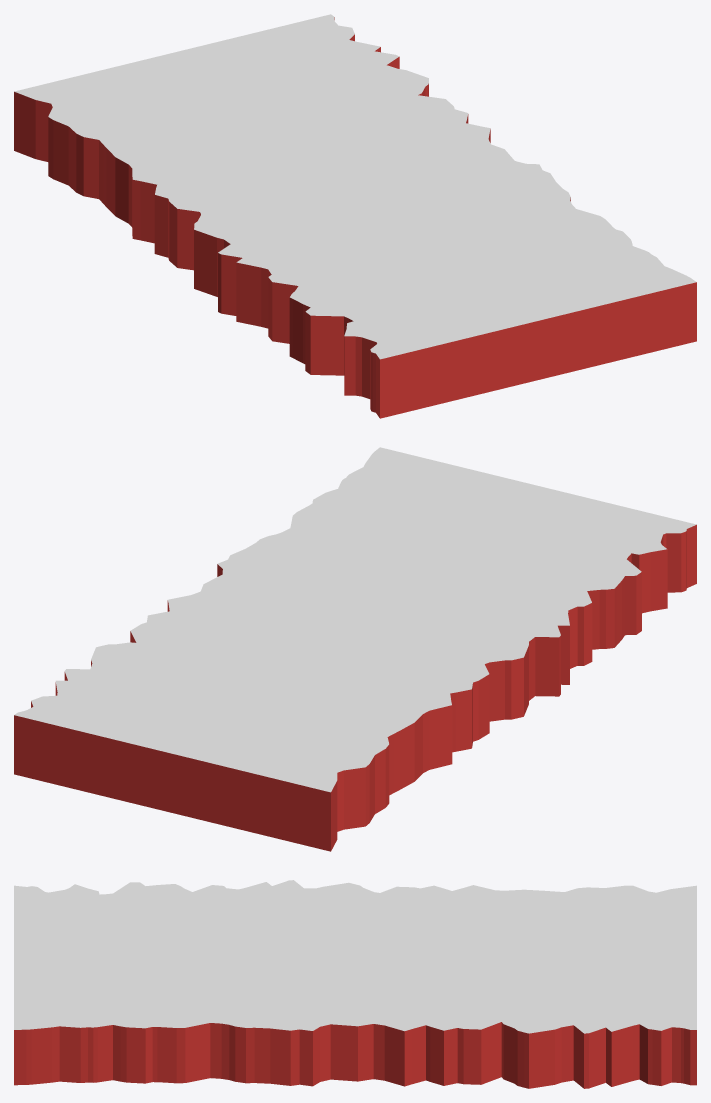
File: newice 6.fbx
3 views of the same model, one above another, from view 1: azimuth 30°, elevation 25°; view 2: azimuth 150°, elevation 25°; view 3: azimuth 270°, elevation 25° (orthographic). The views are drawn at different scales.
Visible parts, largest first — view 1: Plane.008; view 2: Plane.008; view 3: Plane.008.
Part boxes in pixels (left/top/right/bottom): Plane.008: left=14, top=14, right=696, bottom=418; Plane.008: left=14, top=447, right=696, bottom=851; Plane.008: left=14, top=880, right=696, bottom=1088.
Bounding box in the file's own units: 2980 × 500 × 5600.
